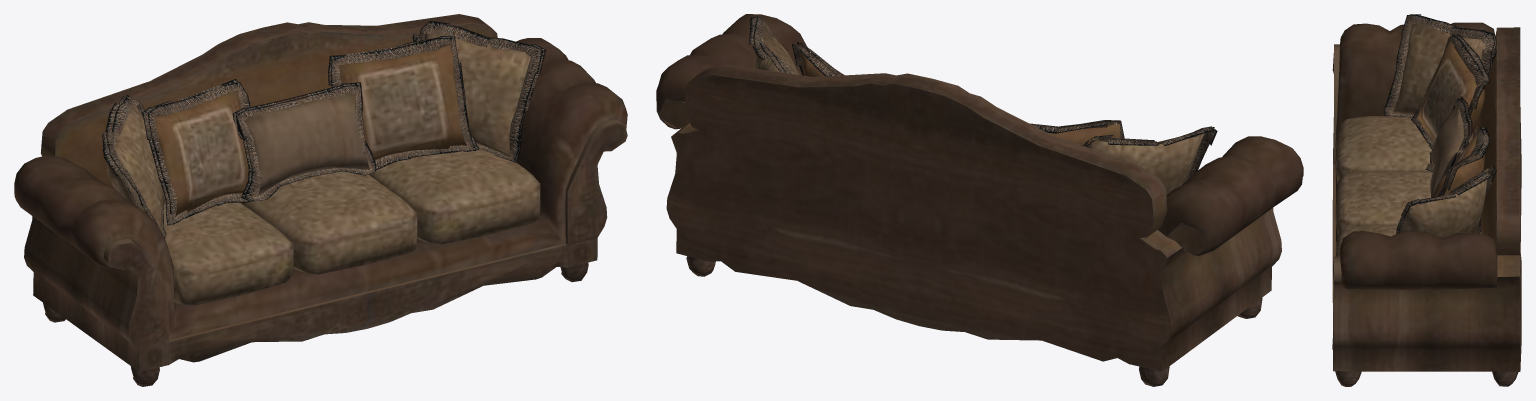
File: sofa_luxury.glb
3 views of the same model, side by side, from view 1: azimuth 30°, elevation 25°; view 2: azimuth 150°, elevation 25°; view 3: azimuth 270°, elevation 25° (orthographic). The views are drawn at different scales.
Parts seen in each view (by area): view 1: sofa_03; view 2: sofa_03; view 3: sofa_03.
Part boxes in pixels (box(x1,y1,x2,y2)): sofa_03: box(14, 14, 627, 386); sofa_03: box(656, 14, 1303, 386); sofa_03: box(1332, 14, 1521, 386).
Bounding box in the file's own units: 2.73 × 1.12 × 0.9251.
Materials: 2 (2 with a texture image).
